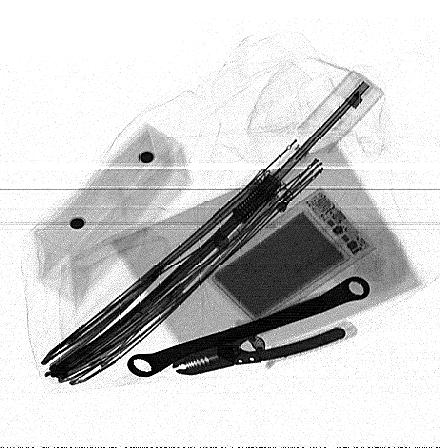Pliers: (171, 296, 349, 375)
Powerbank: (199, 187, 379, 323)
Wrench: (125, 275, 372, 378)
